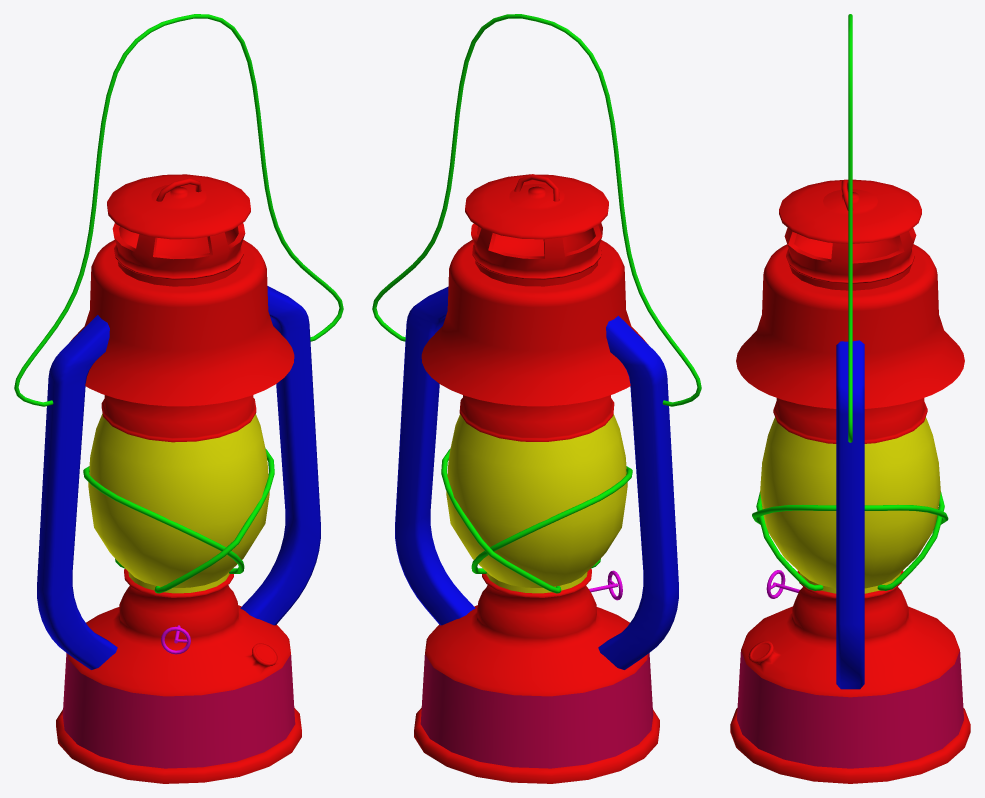
Rendered from P_Lanterne.fbx.
3 renders of one model, left to right at view 1: azimuth 30°, elevation 25°; view 2: azimuth 150°, elevation 25°; view 3: azimuth 270°, elevation 25°, orthographic.
Parts seen in each view (by area): view 1: Lanterne_Low, poignee_dessus; view 2: Lanterne_Low, poignee_dessus; view 3: Lanterne_Low, poignee_dessus.
Boxes of the visible parts, left/top/right/bottom form: Lanterne_Low: left=37, top=174, right=320, bottom=783; poignee_dessus: left=14, top=14, right=343, bottom=406; Lanterne_Low: left=395, top=174, right=678, bottom=783; poignee_dessus: left=372, top=14, right=701, bottom=406; Lanterne_Low: left=730, top=179, right=970, bottom=783; poignee_dessus: left=848, top=14, right=852, bottom=442.
Bounding box in the file's own units: 6.04 × 12.54 × 3.86.
